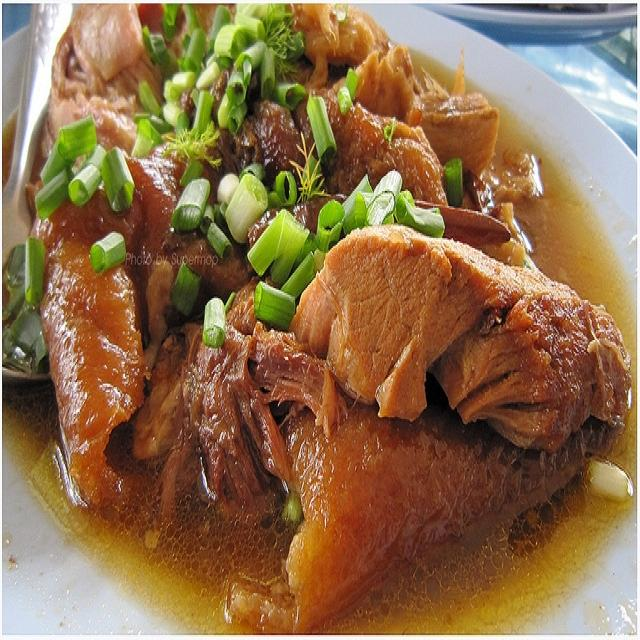猪肉菜式: (34, 39, 604, 583)
